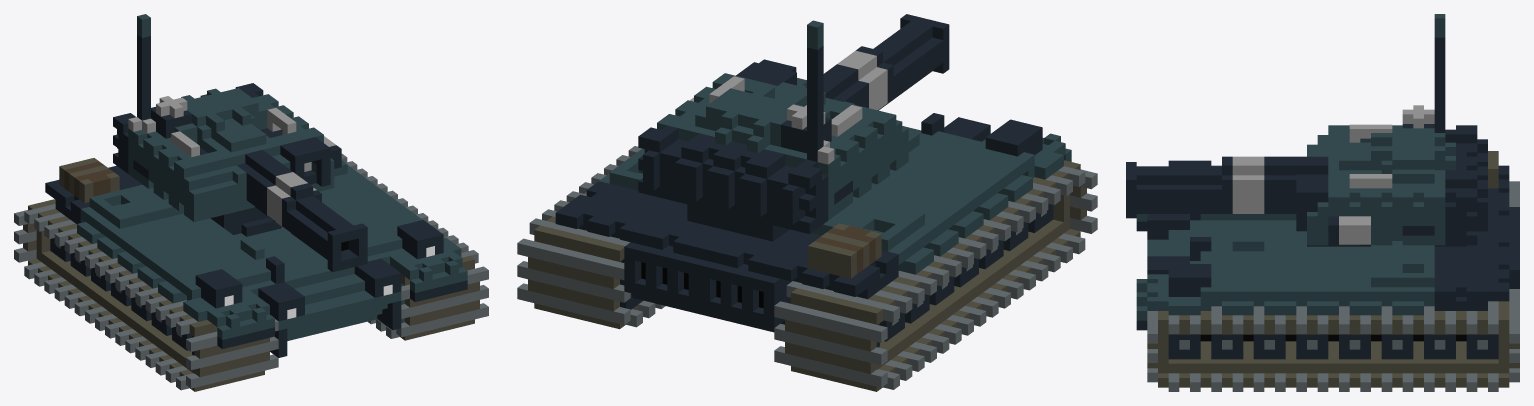
Rendered from tank_modern.obj.
The picture shows the model from 3 angles, left to right: view 1: azimuth 30°, elevation 25°; view 2: azimuth 150°, elevation 25°; view 3: azimuth 270°, elevation 25°; orthographic projection. The views are drawn at different scales.
Bounding box in the file's own units: 3.4 × 2.8 × 3.7.
Materials: 1 (1 with a texture image).
